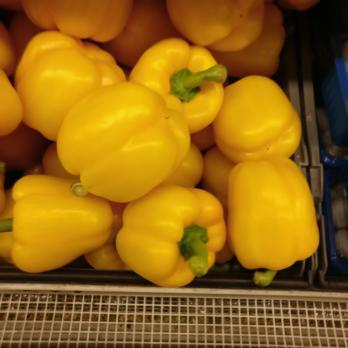Capsicum: (1, 1, 323, 283)
